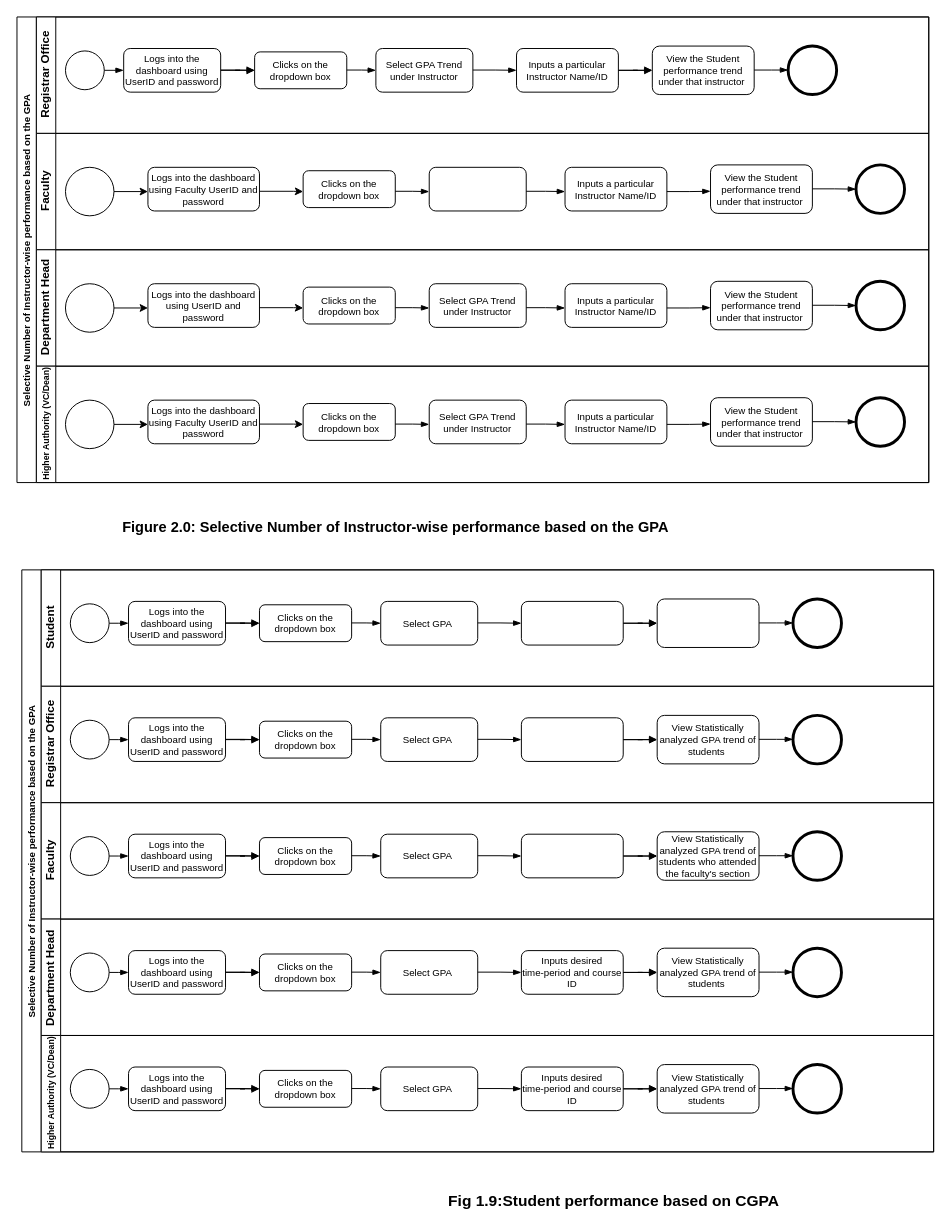
The diagram is 951 pixels wide and 1232 high, and some of its shapes have lost their labels. Each missing label, with the centre of its shape:
Inputs course ID/course IDs: [571,622]
Inputs desired time-period and courses under that specific faculty: [571,855]
Inputs the desired time-period and courses: [571,739]
Select GPA Trend under Name(logged in ID): [477,188]
View GPA for that specific course or courses: [707,622]
